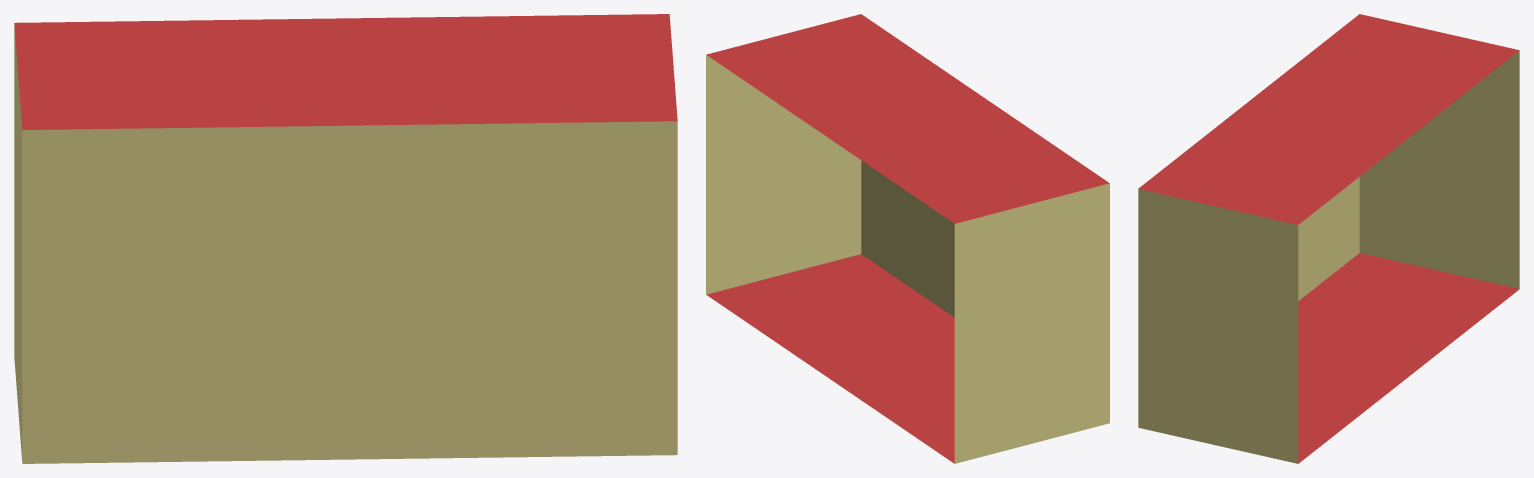
The picture shows the model from 3 angles, left to right: view 1: azimuth 30°, elevation 25°; view 2: azimuth 150°, elevation 25°; view 3: azimuth 270°, elevation 25°; orthographic projection. The views are drawn at different scales.
Parts seen in each view (by area): view 1: group_4, group_3; view 2: group_4, group_3, group_5; view 3: group_4, group_3, group_5.
Part boxes in pixels (box(x1,y1,x2,y2)): group_4: box(14, 25, 677, 463); group_3: box(14, 14, 677, 129); group_4: box(706, 55, 1109, 463); group_3: box(706, 14, 1109, 223); group_5: box(706, 254, 954, 463); group_4: box(1138, 50, 1519, 463); group_3: box(1138, 14, 1519, 224); group_5: box(1298, 253, 1519, 463).
Bounding box in the file's own units: 10.02 × 7.65 × 5.29.
